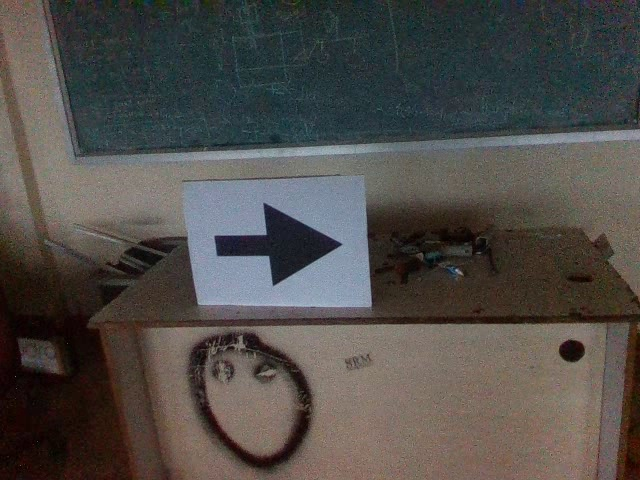Right: (206, 200, 346, 292)
